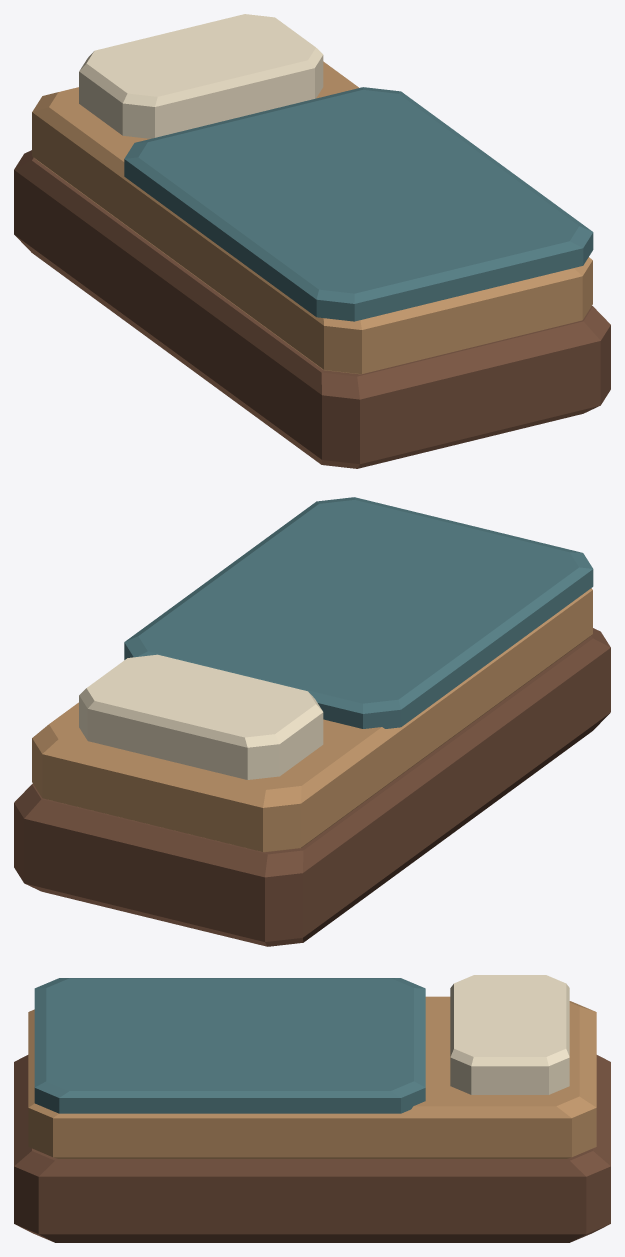
Rendered from bed.glb.
3 renders of one model, top to bottom at view 1: azimuth 30°, elevation 25°; view 2: azimuth 150°, elevation 25°; view 3: azimuth 270°, elevation 25°, orthographic. The views are drawn at different scales.
Visible parts, largest first — view 1: Blanket, Frame, Mattress, Pillow; view 2: Blanket, Frame, Mattress, Pillow; view 3: Frame, Blanket, Mattress, Pillow.
Boxes of the visible parts, x1,y1,x2,y2 form: Blanket: (124,87,593,321); Frame: (14,150,610,468); Mattress: (32,61,592,374); Pillow: (79,14,323,138); Blanket: (124,497,593,728); Frame: (14,628,610,946); Mattress: (32,588,592,852); Pillow: (79,654,323,779); Frame: (14,1055,610,1242); Blanket: (34,978,425,1113); Mattress: (28,996,596,1158); Pillow: (450,975,569,1094).
Bounding box in the file's own units: 0.72 × 0.45 × 1.45.
